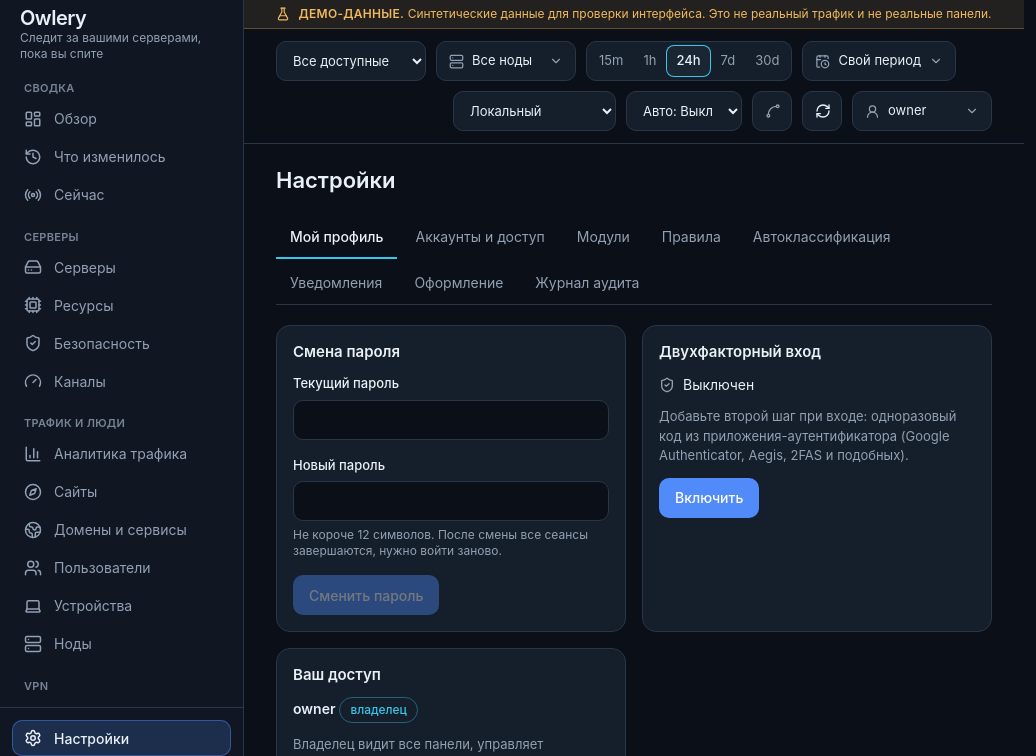
Scenario: automatic classification settings › tells the owner exactly what leaves the server, and shows the key as present or missing, never its value
The image size is (1036, 756).
Click the tab "Автоклассификация". click: (822, 238)
box: [739,216,905,259]
(page scrolled)
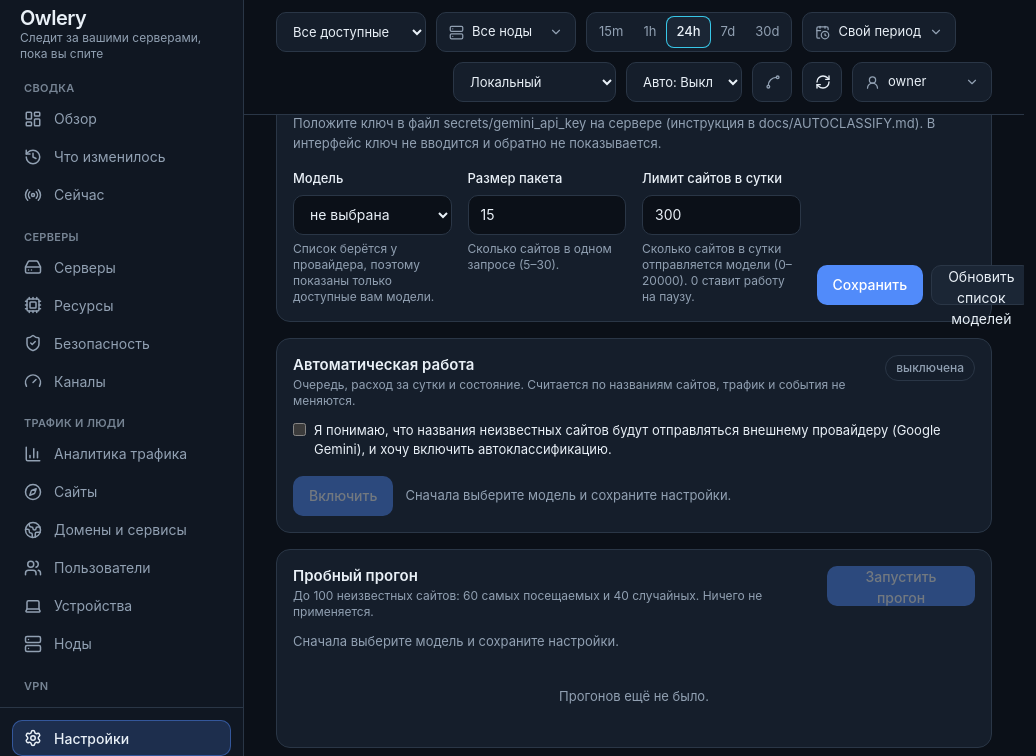
Expected: the text "Никогда не отправляются: IP-адреса" is shown, [336,11,892,46]
Expected: the text "не задан" is shown, [414,76,488,102]
Expected: the text "secrets/gemini_api_key" is shown, [293,115,935,150]
